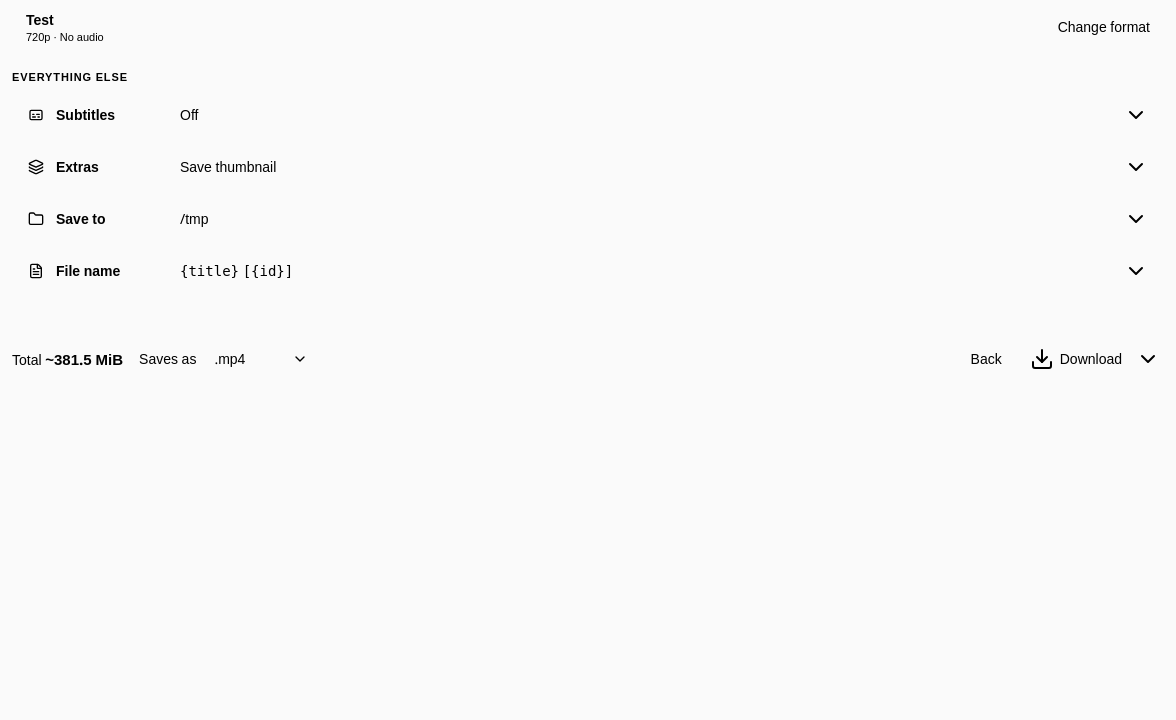
Test case: Review — rows › changes the file type from the footer
The image size is (1176, 720).
Click the dropdown with test id "saves-as-trigger": click(260, 360) [204,342,316,378]
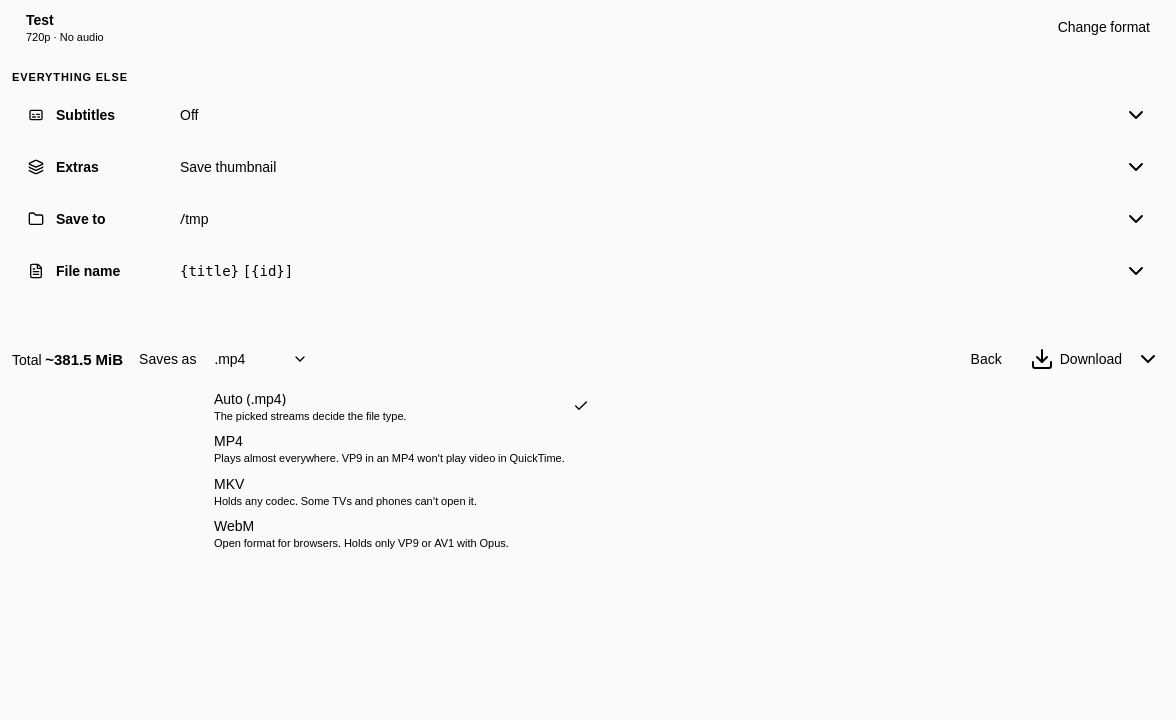
Click the option with test id "saves-as-option-mkv": click(345, 491) [214,474,477,508]
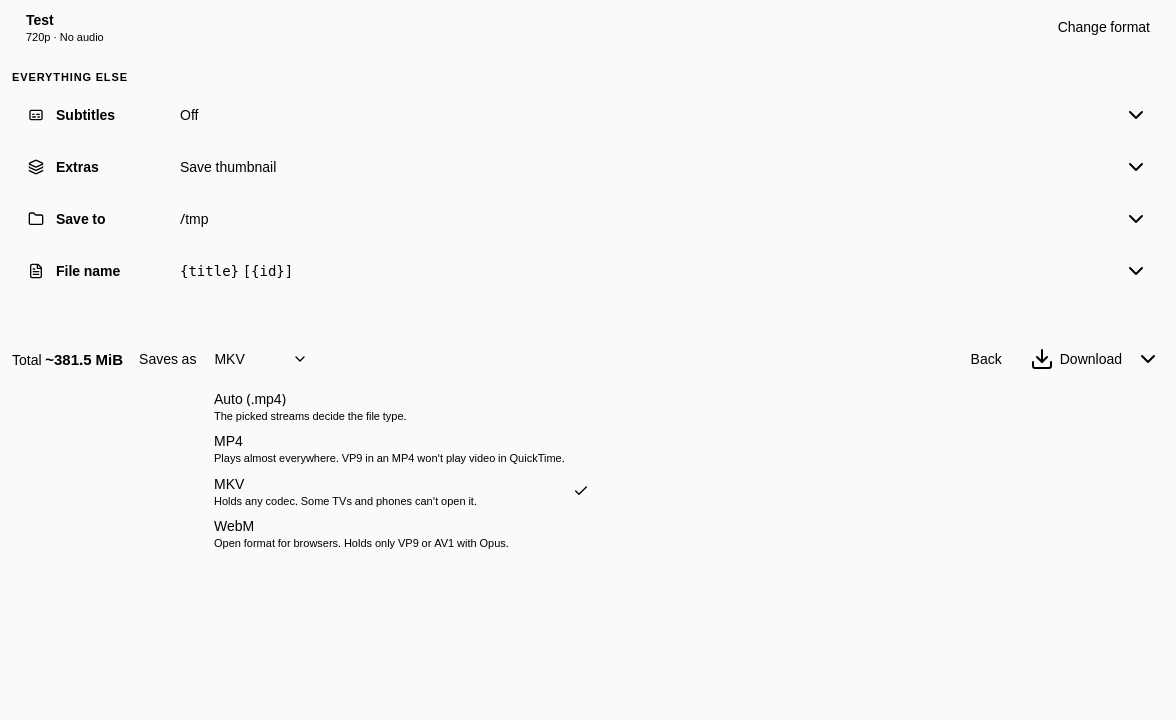
Result: the dropdown with test id "saves-as-trigger" shows "MKV" at [204,342,316,378]
